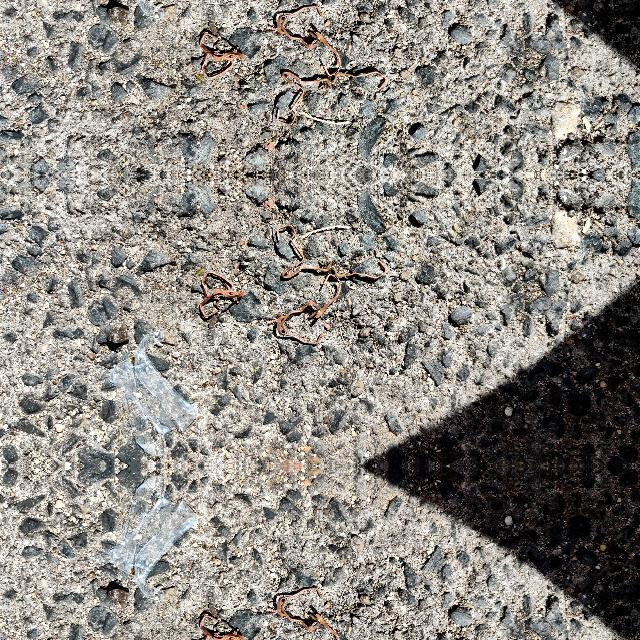Plastic: (275, 223, 389, 343), (275, 5, 389, 125), (104, 327, 204, 461), (104, 470, 204, 604), (275, 588, 389, 640), (198, 268, 244, 322), (198, 26, 244, 80), (198, 608, 244, 640)
